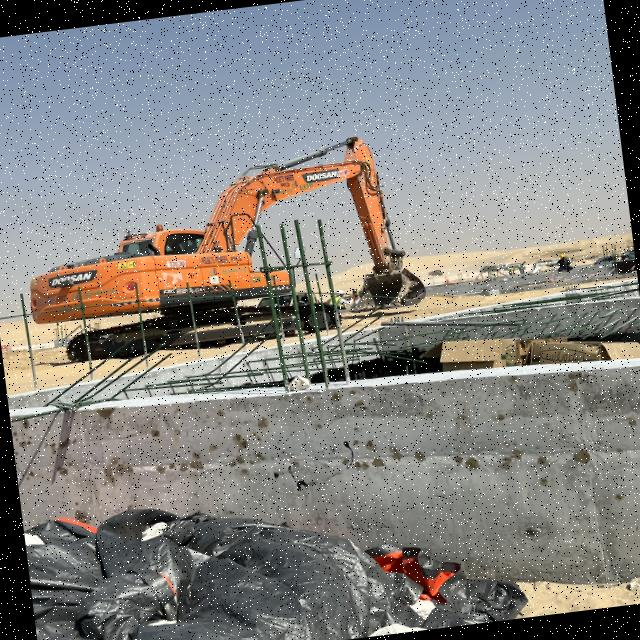Excavator: (11, 122, 430, 375)
